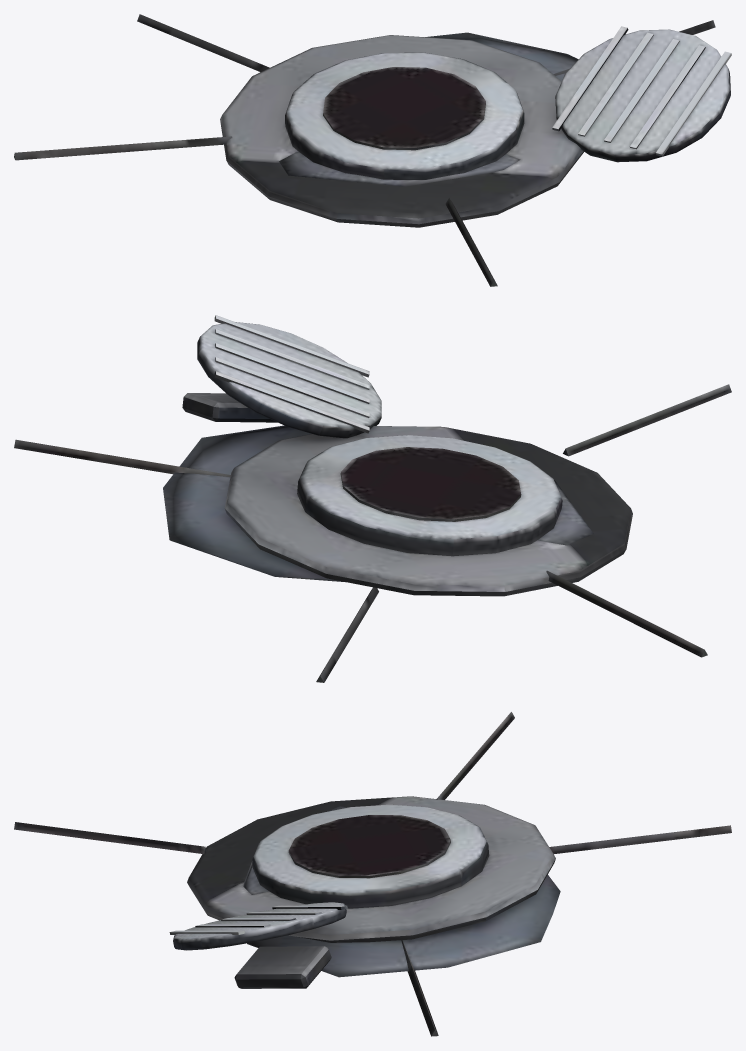
File: manhole_open.glb
3 renders of one model, top to bottom at view 1: azimuth 30°, elevation 25°; view 2: azimuth 150°, elevation 25°; view 3: azimuth 270°, elevation 25°, orthographic. The views are drawn at different scales.
Parts seen in each view (by area): view 1: manhole_open; view 2: manhole_open; view 3: manhole_open.
Part boxes in pixels (x1,y1,x2,y2): manhole_open: (14, 14, 731, 286); manhole_open: (14, 315, 731, 682); manhole_open: (14, 712, 731, 1036).
Bounding box in the file's own units: 3.07 × 0.3861 × 2.91.
Materials: 1 (1 with a texture image).
